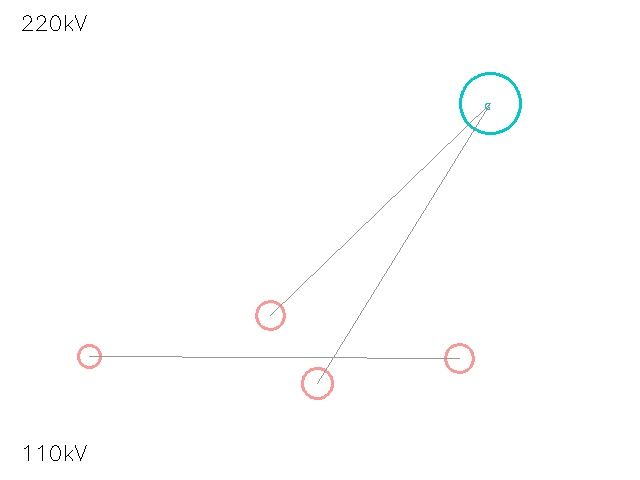current_transformer: (287, 353, 347, 413)
fuse: (242, 287, 298, 343)
generator: (460, 73, 520, 133)
surge_arrester: (430, 329, 488, 387)
voltage_transformer: (66, 333, 112, 379)
